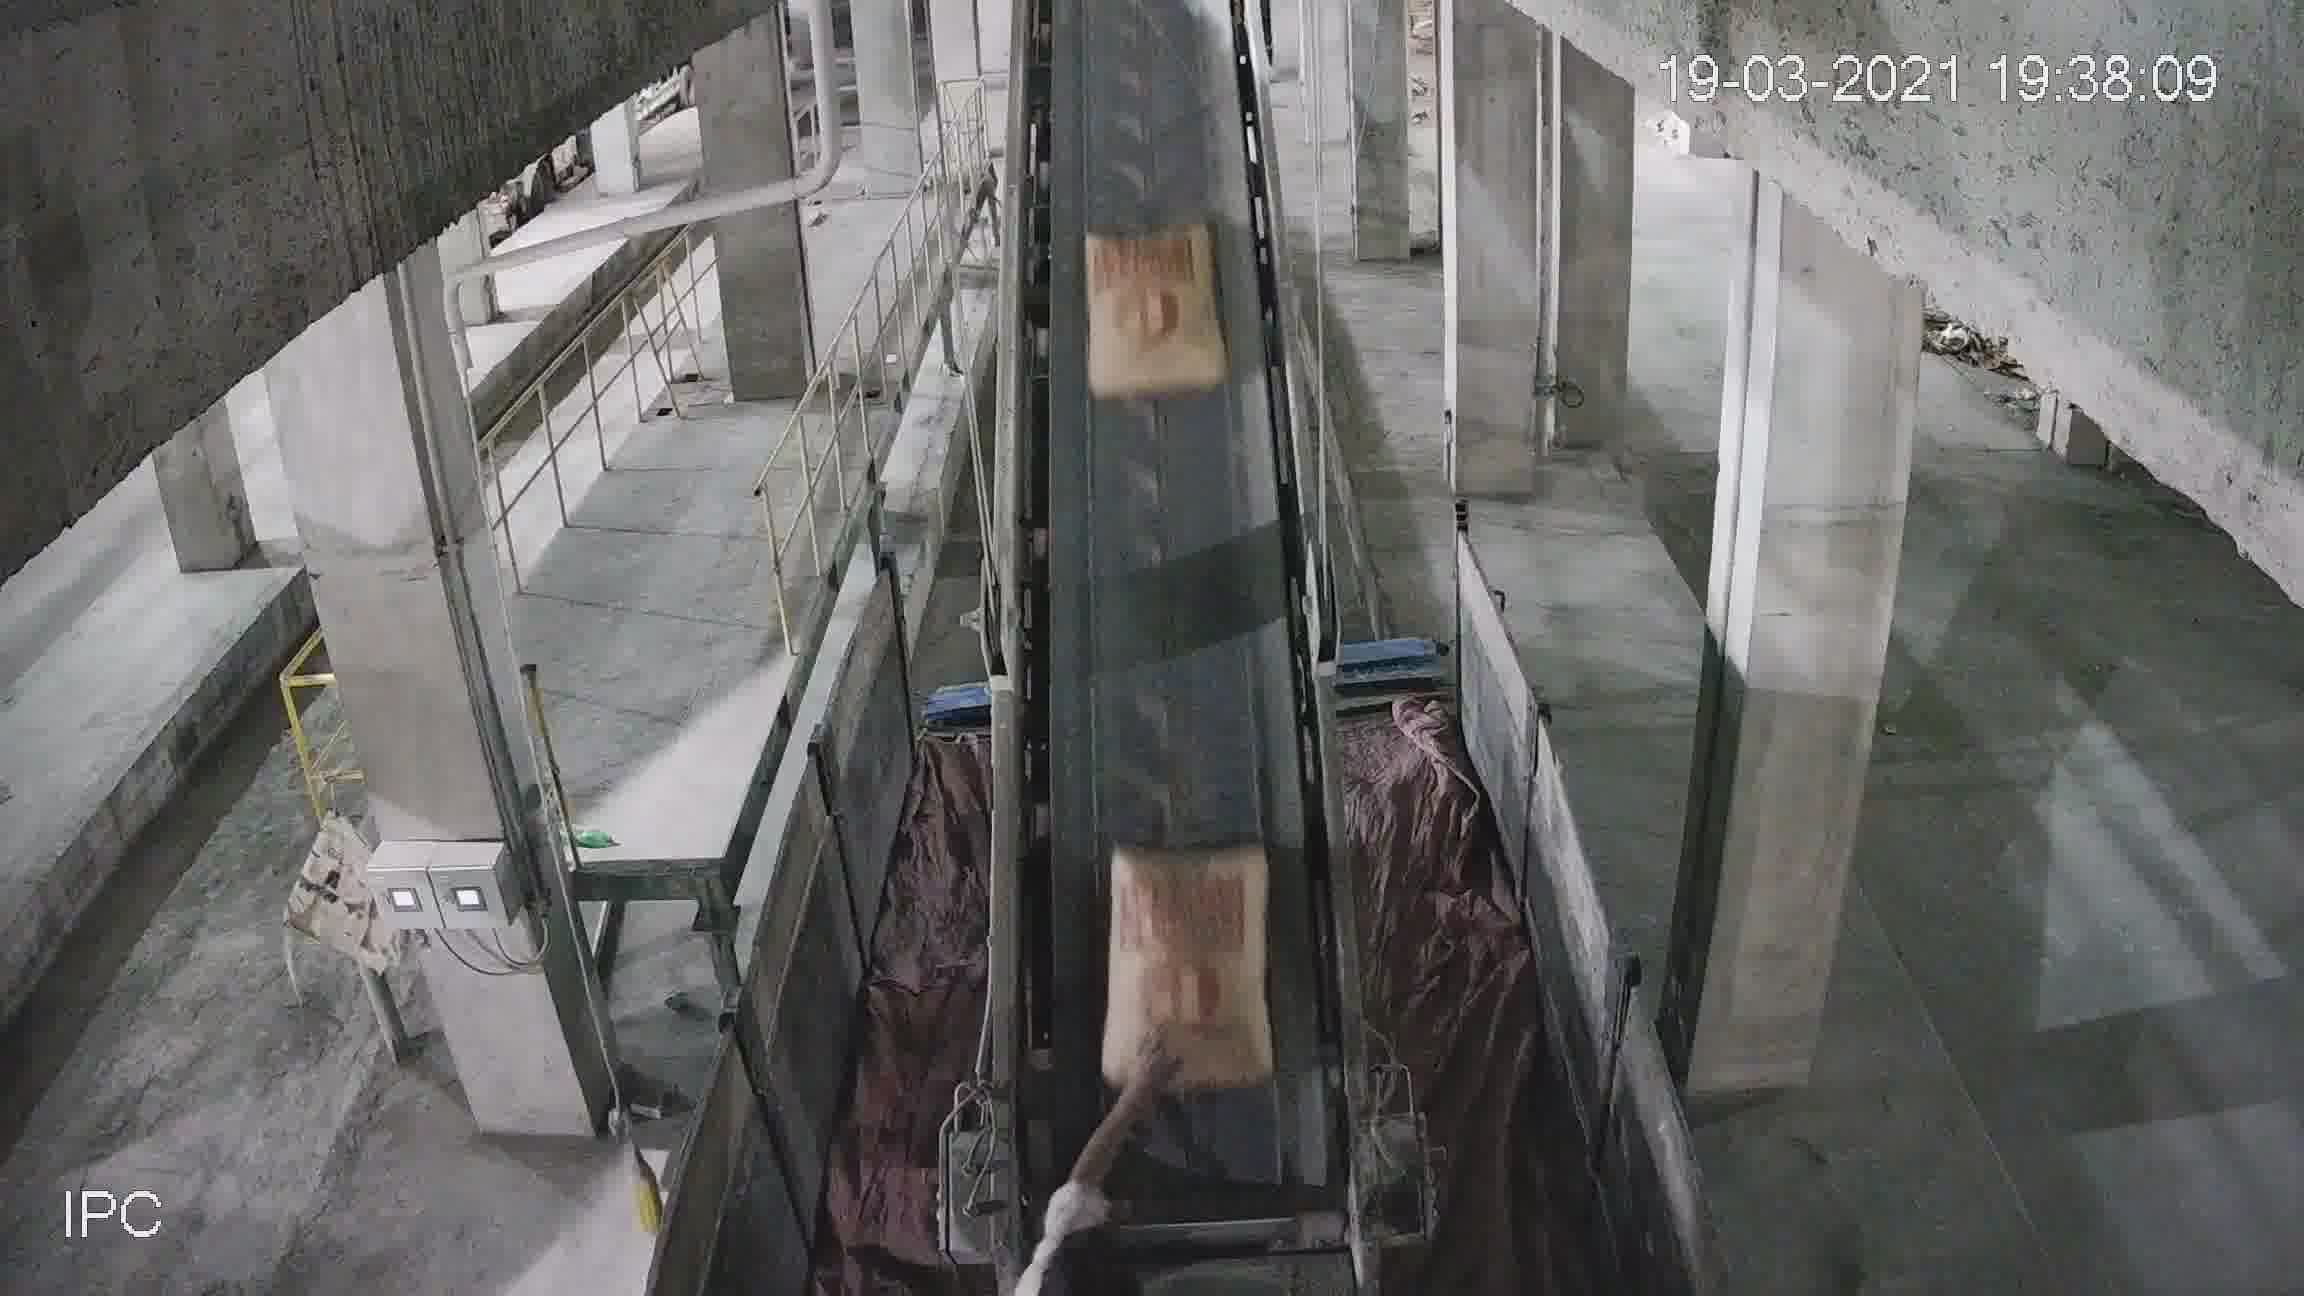bag: (1100, 847, 1268, 1082), (1086, 233, 1218, 397)
belt: (991, 55, 1342, 1051)
